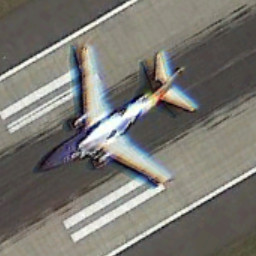Airplane: (22, 31, 205, 200)
